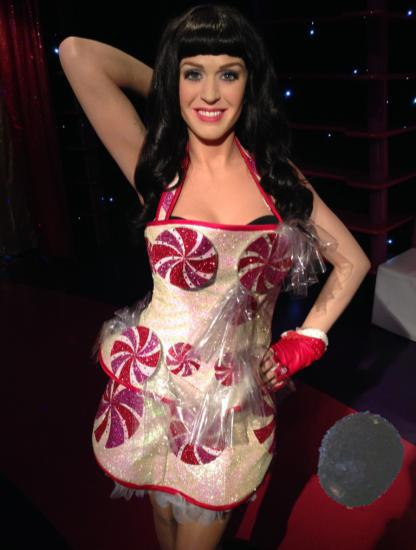Avocado: (311, 410, 411, 510)
